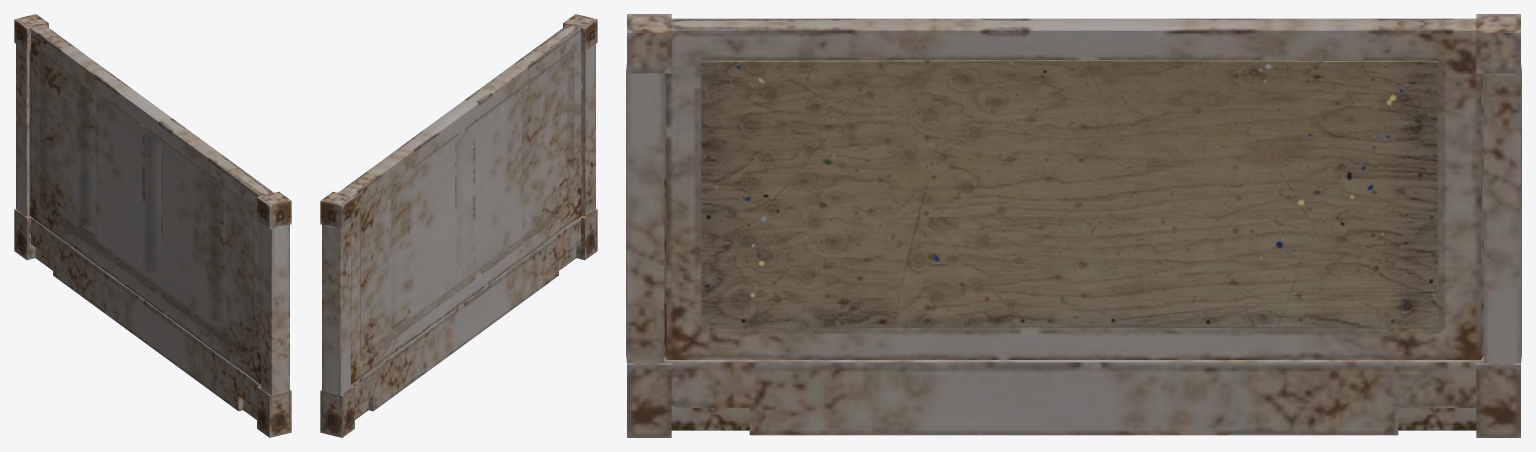
File: wall.half.container.glb
3 views of the same model, side by side, from view 1: azimuth 30°, elevation 25°; view 2: azimuth 150°, elevation 25°; view 3: azimuth 270°, elevation 25° (orthographic). The views are drawn at different scales.
Parts seen in each view (by area): view 1: model; view 2: model; view 3: model.
Part boxes in pixels (bbox=[...]): model: bbox=[14, 14, 291, 437]; model: bbox=[320, 14, 597, 437]; model: bbox=[626, 14, 1521, 437].
Size of the model in its own units: 0.1501 by 1.5 by 3.01.
2 materials, 2 textured.
